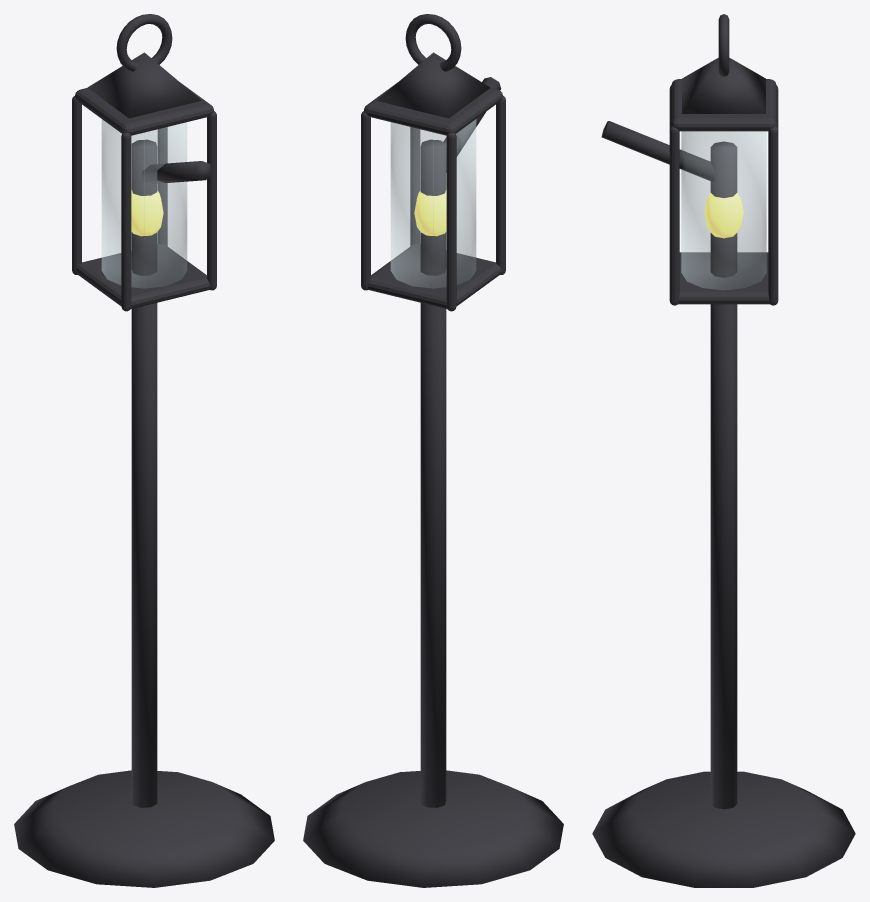
Rendered from lantern_standing_lantern.glb.
The picture shows the model from 3 angles, left to right: view 1: azimuth 30°, elevation 25°; view 2: azimuth 150°, elevation 25°; view 3: azimuth 270°, elevation 25°; orthographic projection.
Visible parts, largest first — view 1: GD_lantern_standing_lantern__m0, GD_lantern_standing_lantern__m2, GD_lantern_standing_lantern__m1; view 2: GD_lantern_standing_lantern__m0, GD_lantern_standing_lantern__m2, GD_lantern_standing_lantern__m1; view 3: GD_lantern_standing_lantern__m0, GD_lantern_standing_lantern__m2, GD_lantern_standing_lantern__m1.
Boxes of the visible parts, left/top/right/bottom form: GD_lantern_standing_lantern__m0: left=14, top=14, right=274, bottom=887; GD_lantern_standing_lantern__m2: left=101, top=119, right=187, bottom=288; GD_lantern_standing_lantern__m1: left=131, top=189, right=163, bottom=236; GD_lantern_standing_lantern__m0: left=303, top=14, right=563, bottom=887; GD_lantern_standing_lantern__m2: left=390, top=119, right=476, bottom=288; GD_lantern_standing_lantern__m1: left=414, top=189, right=446, bottom=236; GD_lantern_standing_lantern__m0: left=592, top=14, right=855, bottom=887; GD_lantern_standing_lantern__m2: left=681, top=131, right=766, bottom=290; GD_lantern_standing_lantern__m1: left=704, top=193, right=743, bottom=238.
Bounding box in the file's own units: 0.39 × 1.37 × 0.4.
